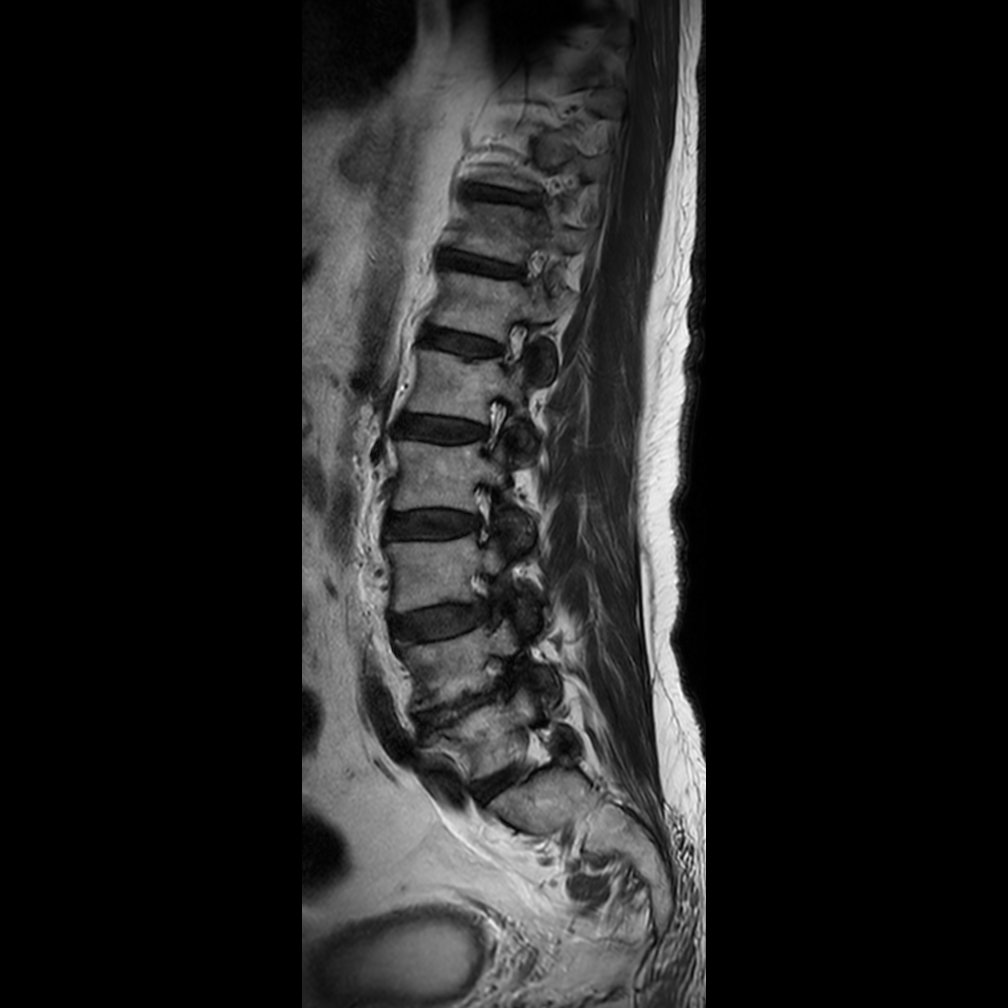LFS0: (468, 385, 527, 463)
LFS1: (457, 473, 513, 556)
